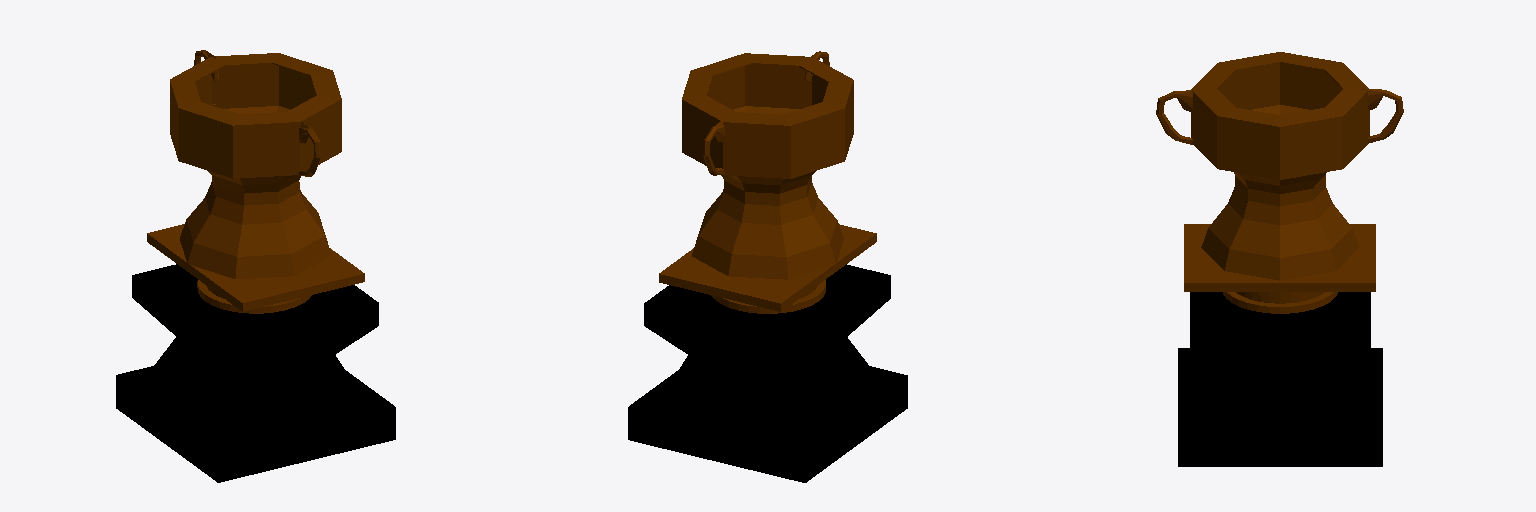
File: TrophyCup.obj
3 views of the same model, side by side, from view 1: azimuth 30°, elevation 25°; view 2: azimuth 150°, elevation 25°; view 3: azimuth 270°, elevation 25° (orthographic).
Parts seen in each view (by area): view 1: Trophy3_Base_Body_Cube.002; view 2: Trophy3_Base_Body_Cube.002; view 3: Trophy3_Base_Body_Cube.002.
Part boxes in pixels (x1,y1,x2,y2): Trophy3_Base_Body_Cube.002: (116, 50, 395, 482); Trophy3_Base_Body_Cube.002: (628, 51, 907, 482); Trophy3_Base_Body_Cube.002: (1156, 52, 1403, 466).
Bounding box in the file's own units: 2.02 × 3.65 × 2.44.